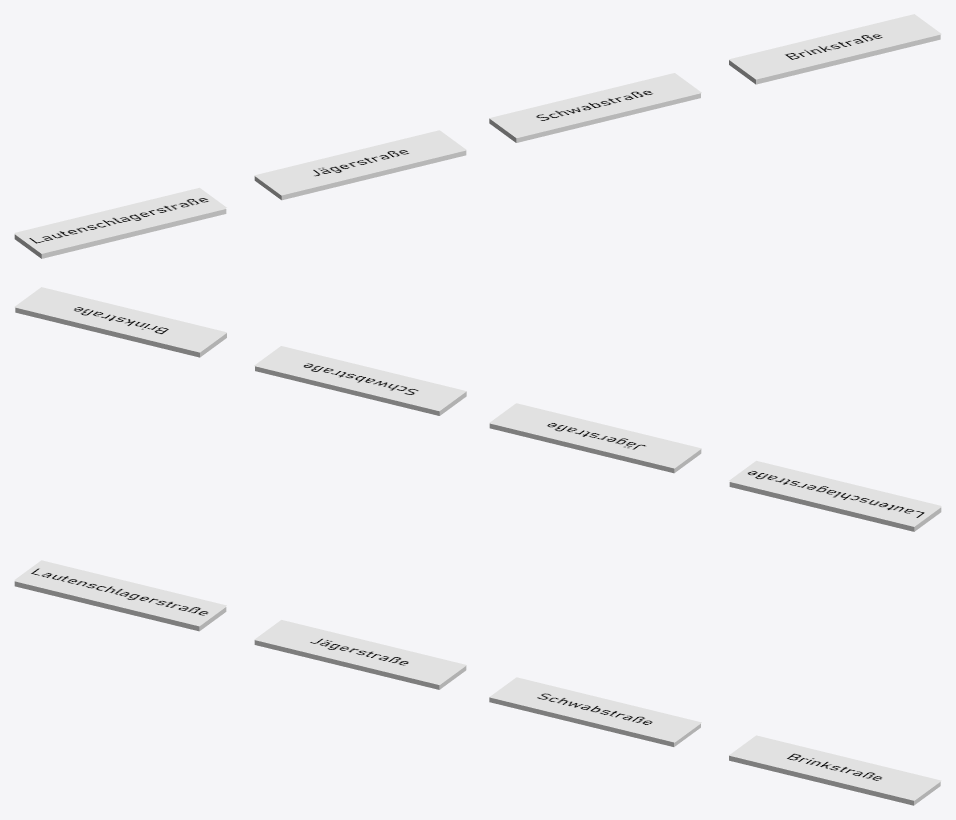
The model's file is straten.fbx.
The picture shows the model from 3 angles, top to bottom: view 1: azimuth 30°, elevation 25°; view 2: azimuth 150°, elevation 25°; view 3: azimuth 330°, elevation 25°; orthographic projection.
Visible parts, largest first — view 1: straatnaambordechtheelmooiroberttenbrink, straatnaambordechtheelmooi, straatnaambordechtheelmooiSUIPESUIPESUIPE, straatnaambordechtheelmooiSCHAB, Cube.002, Cube.003, Cube, Cube.001; view 2: straatnaambordechtheelmooiroberttenbrink, straatnaambordechtheelmooi, straatnaambordechtheelmooiSUIPESUIPESUIPE, straatnaambordechtheelmooiSCHAB, Cube.002, Cube.003, Cube, Cube.001; view 3: straatnaambordechtheelmooi, straatnaambordechtheelmooiSUIPESUIPESUIPE, straatnaambordechtheelmooiSCHAB, straatnaambordechtheelmooiroberttenbrink, Cube.002, Cube.003, Cube, Cube.001.
Boxes of the visible parts, <box> form: straatnaambordechtheelmooiroberttenbrink: <box>729,14,941,79</box>; straatnaambordechtheelmooi: <box>14,187,226,252</box>; straatnaambordechtheelmooiSUIPESUIPESUIPE: <box>254,130,466,195</box>; straatnaambordechtheelmooiSCHAB: <box>489,73,701,138</box>; Cube.002: <box>14,208,226,258</box>; Cube.003: <box>729,34,940,84</box>; Cube: <box>254,150,466,200</box>; Cube.001: <box>489,93,700,142</box>; straatnaambordechtheelmooiroberttenbrink: <box>14,287,226,352</box>; straatnaambordechtheelmooi: <box>729,460,941,525</box>; straatnaambordechtheelmooiSUIPESUIPESUIPE: <box>489,403,701,468</box>; straatnaambordechtheelmooiSCHAB: <box>254,346,466,411</box>; Cube.002: <box>729,481,941,531</box>; Cube.003: <box>15,307,226,357</box>; Cube: <box>489,423,701,473</box>; Cube.001: <box>255,366,466,415</box>; straatnaambordechtheelmooi: <box>14,560,226,625</box>; straatnaambordechtheelmooiSUIPESUIPESUIPE: <box>254,620,466,684</box>; straatnaambordechtheelmooiSCHAB: <box>489,677,701,742</box>; straatnaambordechtheelmooiroberttenbrink: <box>729,735,941,800</box>; Cube.002: <box>14,580,226,631</box>; Cube.003: <box>729,755,940,805</box>; Cube: <box>254,640,466,689</box>; Cube.001: <box>489,697,700,746</box>.
Size of the model in its own units: 1891 by 12.21 by 100.
